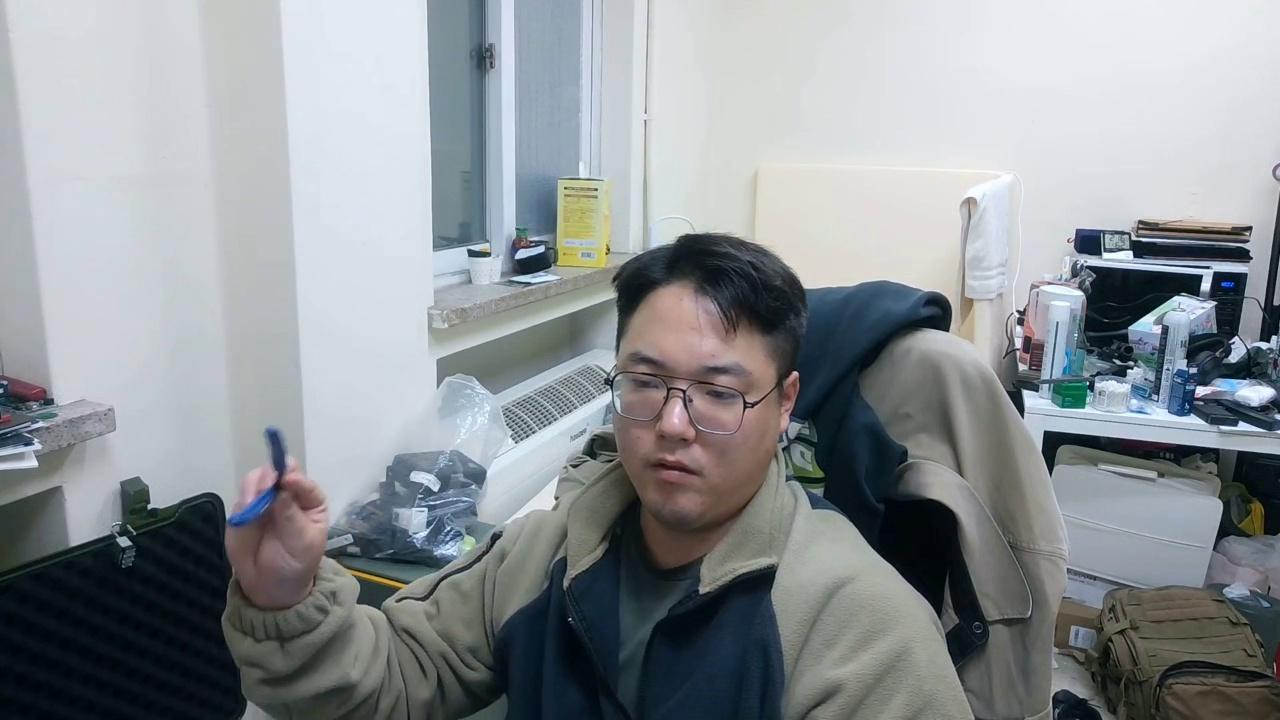blue_pliers: (227, 424, 292, 528)
